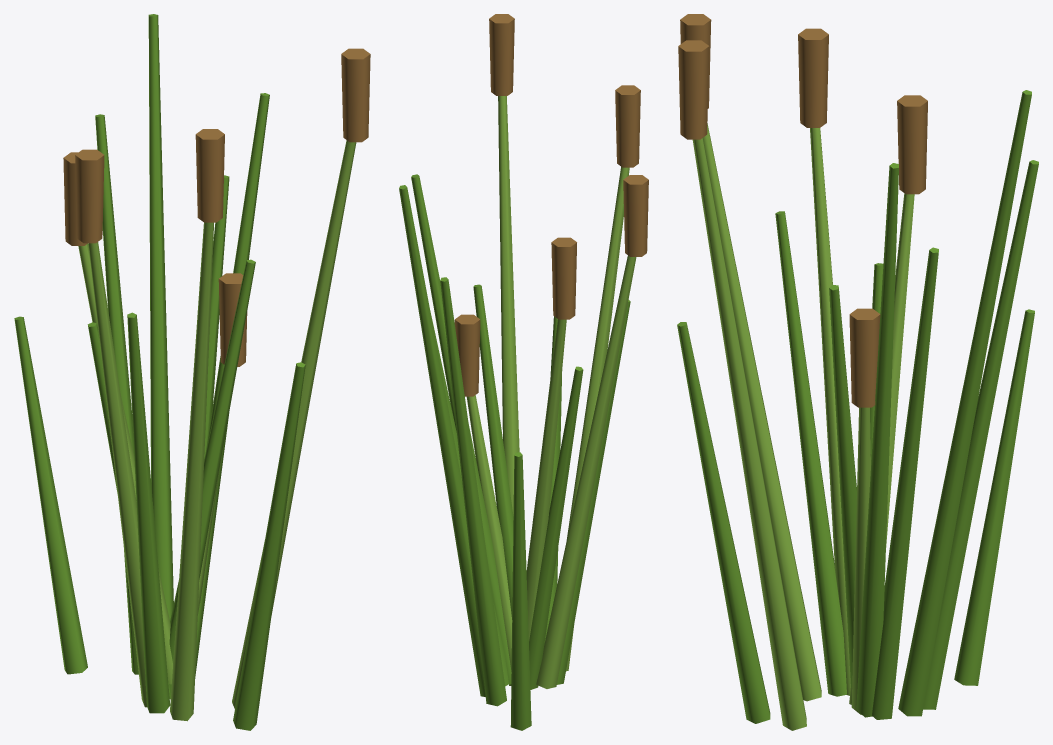
File: reeds.glb
3 renders of one model, left to right at view 1: azimuth 30°, elevation 25°; view 2: azimuth 150°, elevation 25°; view 3: azimuth 270°, elevation 25°, orthographic. The views are drawn at different scales.
Visible parts, largest first — view 1: reeds_mesh; view 2: reeds_mesh; view 3: reeds_mesh.
Boxes of the visible parts, <box> form: reeds_mesh: <box>14,14,370,730</box>; reeds_mesh: <box>399,14,648,730</box>; reeds_mesh: <box>677,14,1038,730</box>.
Bounding box in the file's own units: 0.6374 × 1.78 × 0.8149.
